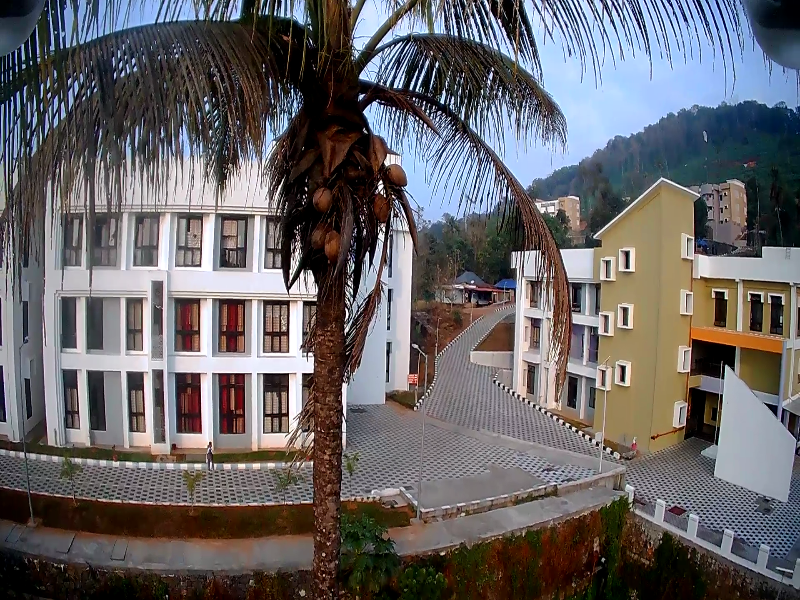coconut: (321, 221, 340, 255), (383, 162, 405, 189), (368, 195, 386, 221), (313, 184, 329, 211), (311, 227, 321, 246)
